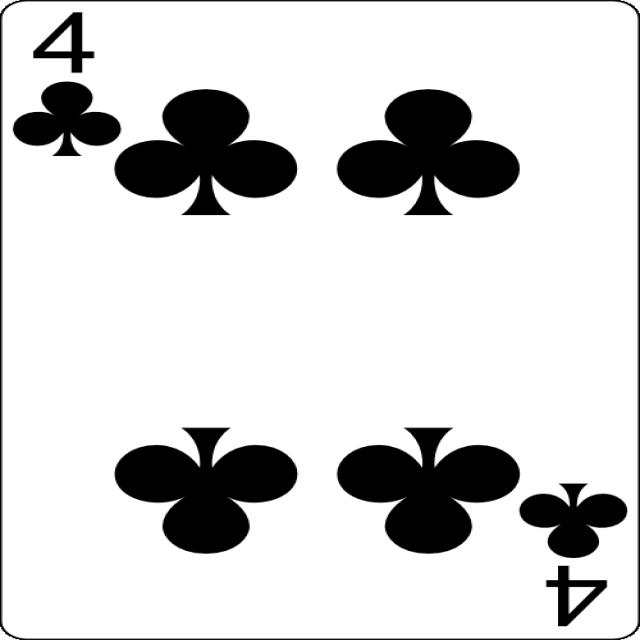Club: (337, 88, 520, 216), (114, 88, 298, 215), (114, 428, 298, 554), (336, 428, 520, 554), (12, 81, 122, 157), (519, 483, 628, 558)
